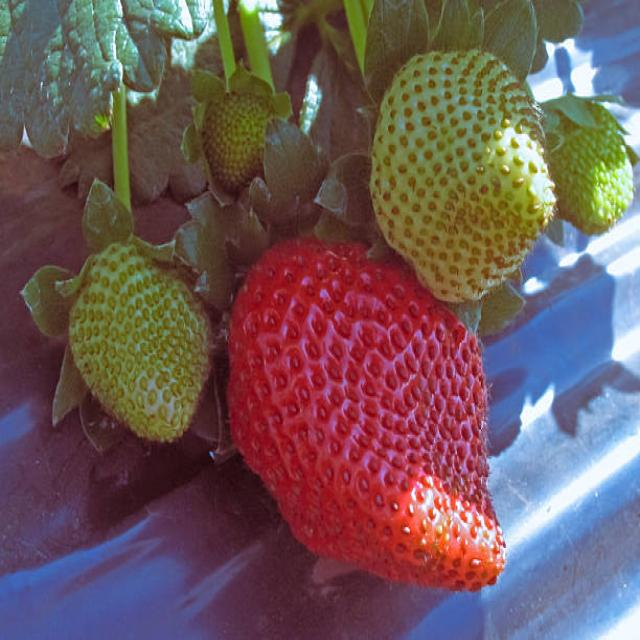Healthy Fruit: (231, 236, 507, 591), (371, 51, 558, 304), (68, 246, 220, 444)
